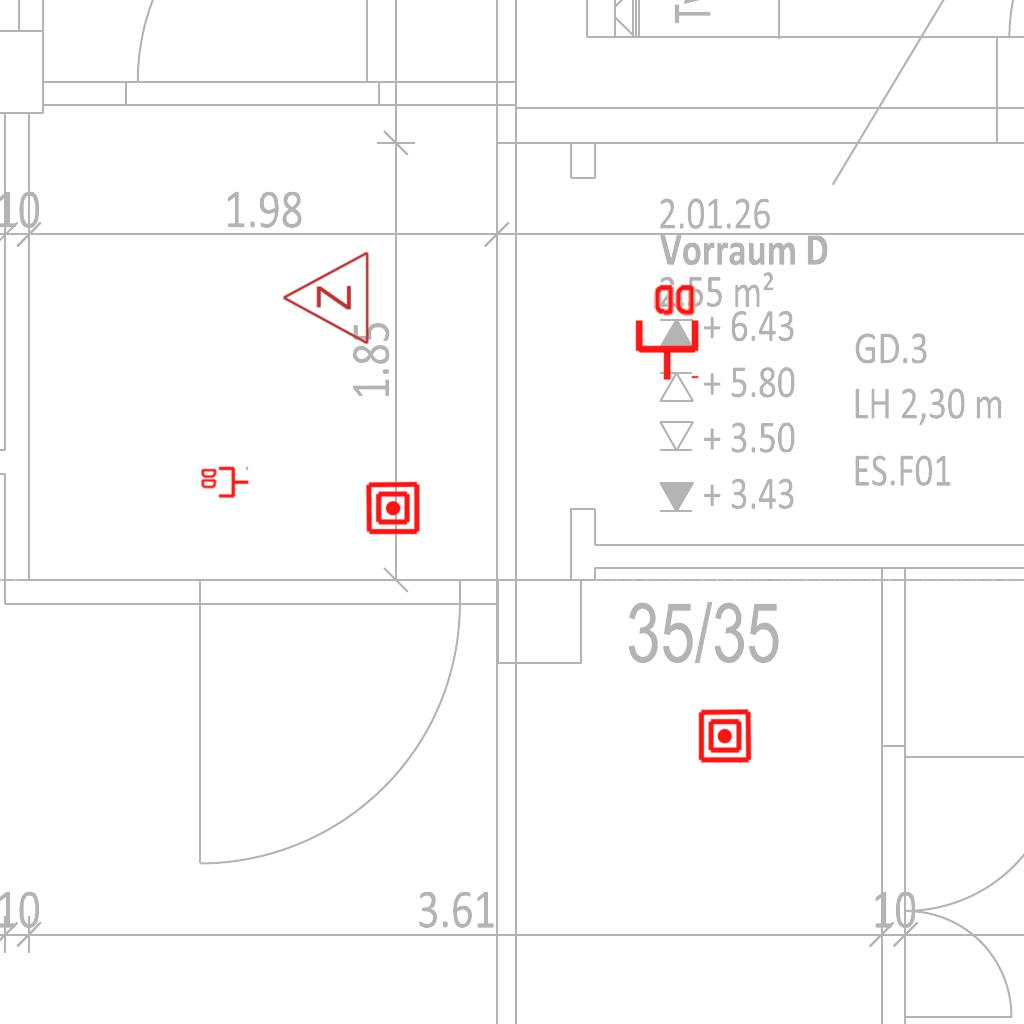Datenanschluss_zweifach: (631, 280, 700, 383), (199, 466, 250, 500)
NAM-Nichtautomatischer_Melder: (365, 480, 421, 536), (697, 708, 753, 764)
Zimmersignalleuchte: (276, 250, 376, 348)
